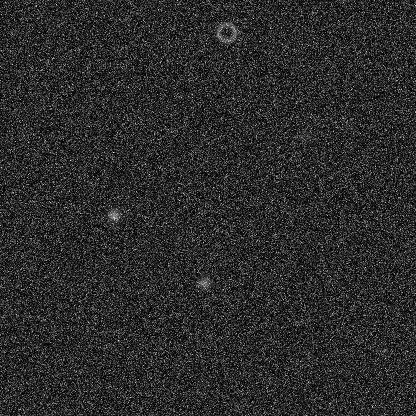Ring: (214, 20, 238, 44)
Spot: (105, 207, 121, 223), (196, 274, 212, 290), (296, 128, 312, 144)
